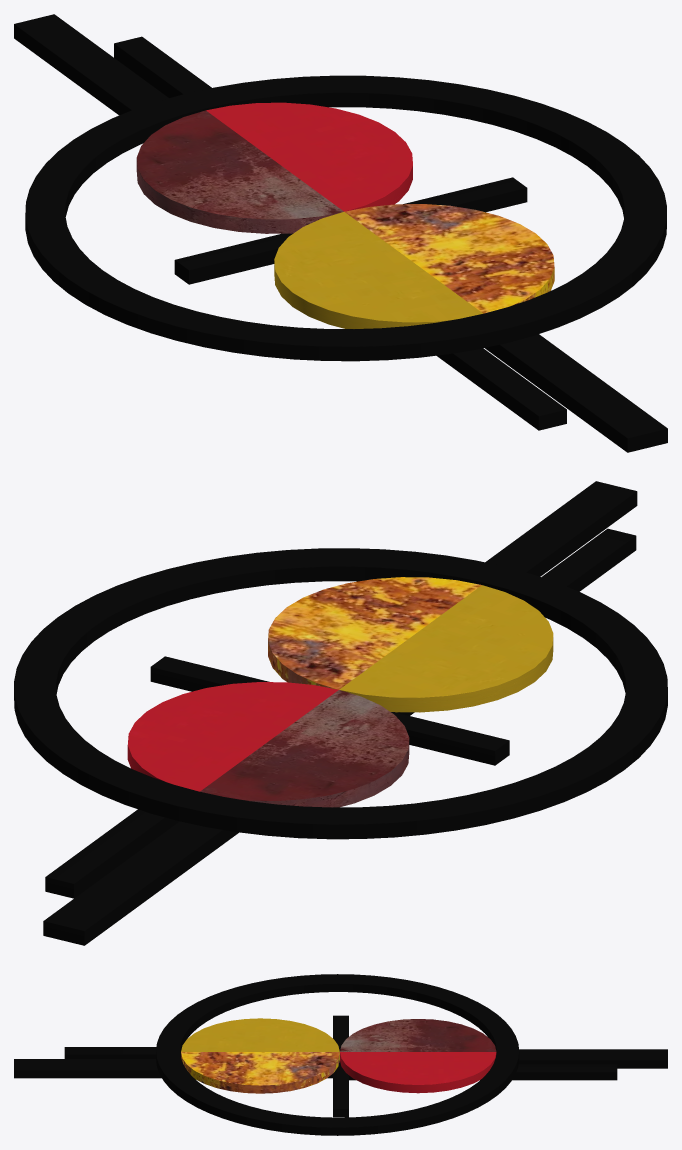
File: wall_art_circles.glb
3 renders of one model, top to bottom at view 1: azimuth 30°, elevation 25°; view 2: azimuth 150°, elevation 25°; view 3: azimuth 270°, elevation 25°, orthographic. The views are drawn at different scales.
Parts seen in each view (by area): view 1: Cylinder, Red_Circle, Yellow_Circle, Bars; view 2: Cylinder, Yellow_Circle, Red_Circle, Bars; view 3: Cylinder, Yellow_Circle, Bars, Red_Circle.
Boxes of the visible parts, <box> form: Cylinder: <box>25,75,666,361</box>; Red_Circle: <box>136,102,412,233</box>; Yellow_Circle: <box>274,204,554,328</box>; Bars: <box>14,14,667,452</box>; Cylinder: <box>14,548,667,839</box>; Yellow_Circle: <box>268,577,553,712</box>; Red_Circle: <box>127,682,409,807</box>; Bars: <box>43,481,637,945</box>; Cylinder: <box>156,974,519,1135</box>; Yellow_Circle: <box>181,1018,339,1093</box>; Bars: <box>14,1015,667,1117</box>; Red_Circle: <box>340,1019,496,1093</box>.
Bounding box in the file's own units: 0.508 × 0.0273 × 0.9145.
5 materials, 4 textured.
